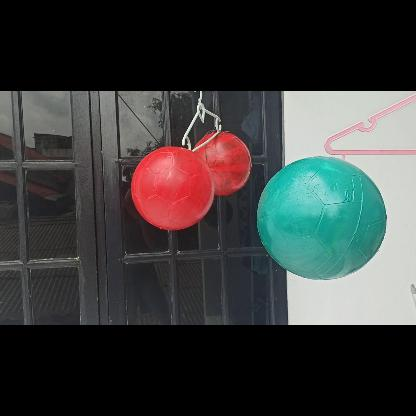red_ball: (130, 148, 214, 230)
